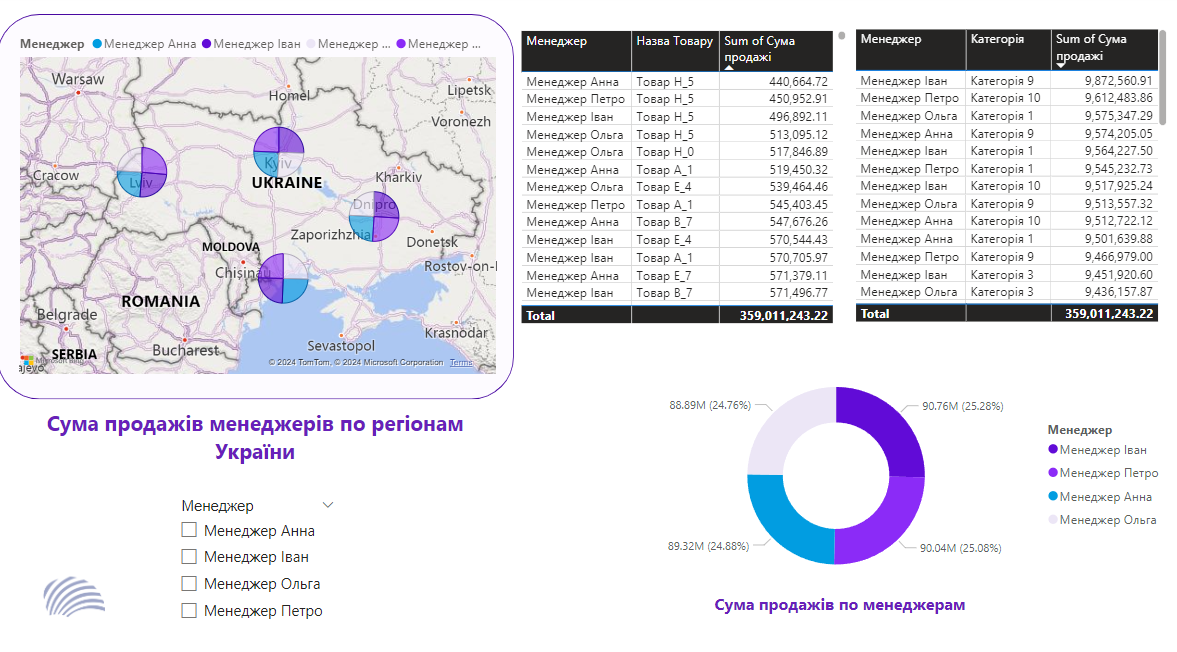

The dashboard page shown, as its layout file describes it:
{"tool":"powerbi","page":{"name":"Managers","canvas":[1280,720],"ordinal":6},"visuals":[{"type":"image","box":[0,603.3,161.7,116.7],"z":0},{"type":"shape","box":[0,22,558,416],"z":1000},{"type":"map","fields":{"Size":["Sum(Перші 6 місяців 2023.Сума продажі)"],"Category":["Перші 6 місяців 2023.Регіон"],"Series":["Перші 6 місяців 2023.Менеджер"]},"box":[20,34,524,382],"z":2000},{"type":"tableEx","fields":{"Values":["Перші 6 місяців 2023.Менеджер","Перші 6 місяців 2023.Назва Товару","Sum(Перші 6 місяців 2023.Сума продажі)"]},"box":[581.7,33.3,348.3,326.7],"z":3000},{"type":"slicer","fields":{"Values":["Перші 6 місяців 2023.Менеджер"]},"box":[186,540,190,158],"z":4000},{"type":"tableEx","fields":{"Values":["Перші 6 місяців 2023.Менеджер","Перші 6 місяців 2023.Категорія","Sum(Перші 6 місяців 2023.Сума продажі)"]},"box":[930,33.3,338.3,326.7],"z":5000},{"type":"donutChart","fields":{"Category":["Перші 6 місяців 2023.Менеджер"],"Y":["Sum(Перші 6 місяців 2023.Сума продажі)"]},"box":[671.9,390.2,596.9,261],"z":6000},{"type":"shape","box":[45,438.3,466.7,80],"z":7000},{"type":"shape","box":[768.3,618.3,281.7,80],"z":8000}]}

Visuals, with their boxes in screenshot pixels (x1, y1, x2, y2), scaled from the page's 1280x720 canvas onto the 1177x652 screenshot:
image: box(0, 546, 149, 651)
shape: box(0, 20, 513, 397)
map - Sum(Перші 6 місяців 2023.Сума продажі) x Перші 6 місяців 2023.Регіон: box(18, 31, 500, 377)
tableEx - Перші 6 місяців 2023.Менеджер x Перші 6 місяців 2023.Назва Товару: box(535, 30, 855, 326)
slicer - Перші 6 місяців 2023.Менеджер: box(171, 489, 346, 632)
tableEx - Перші 6 місяців 2023.Менеджер x Перші 6 місяців 2023.Категорія: box(855, 30, 1166, 326)
donutChart - Перші 6 місяців 2023.Менеджер x Sum(Перші 6 місяців 2023.Сума продажі): box(618, 353, 1167, 590)
shape: box(41, 397, 471, 469)
shape: box(706, 560, 966, 632)
